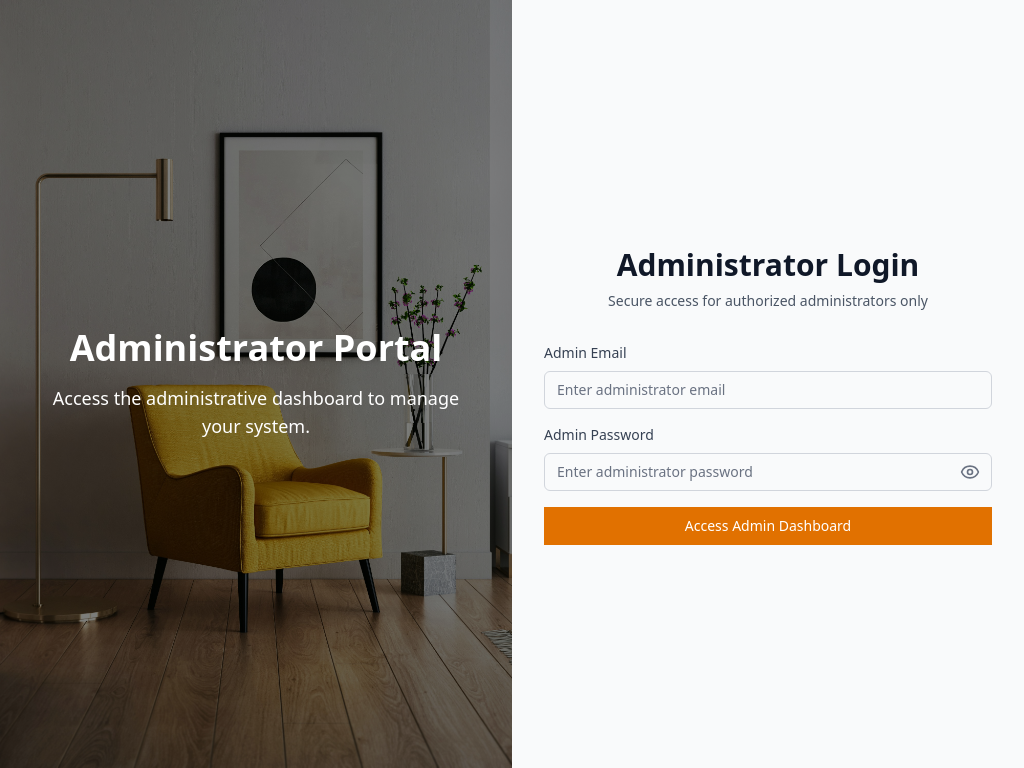
Test case: LoginPage › handles unexpected errors
In the field labelled "Admin Email": (768, 390) [544,371,992,409], type "test@example.com"
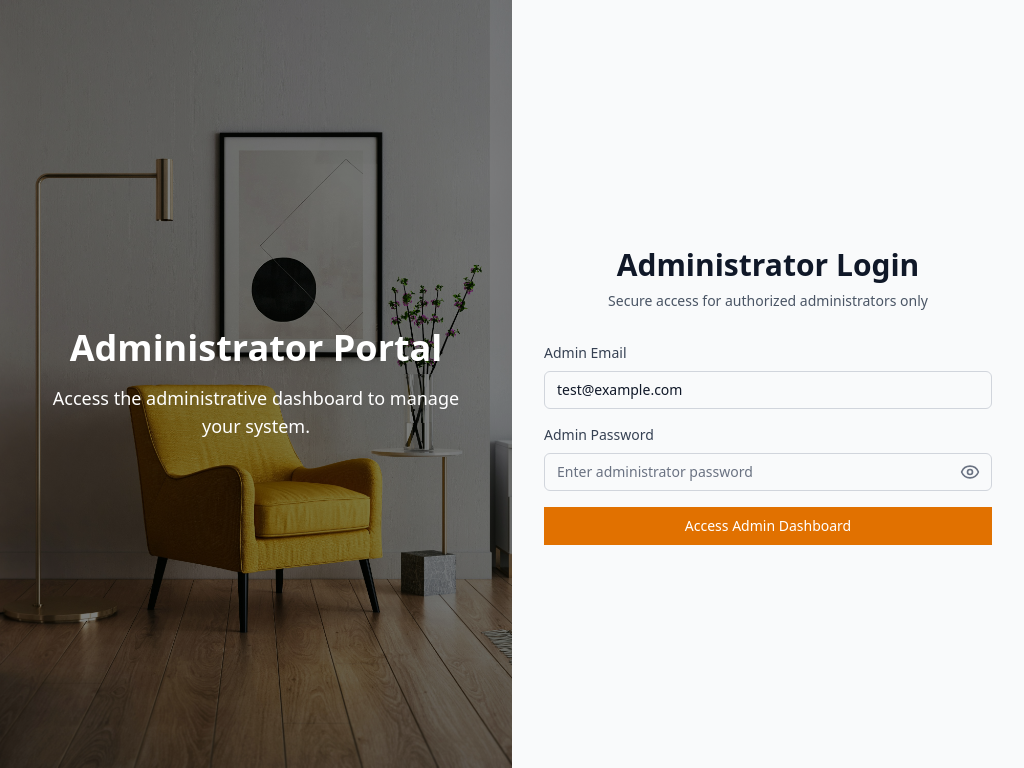
In the password field labelled "Admin Password": (768, 472) [544,453,992,491], type "password123"
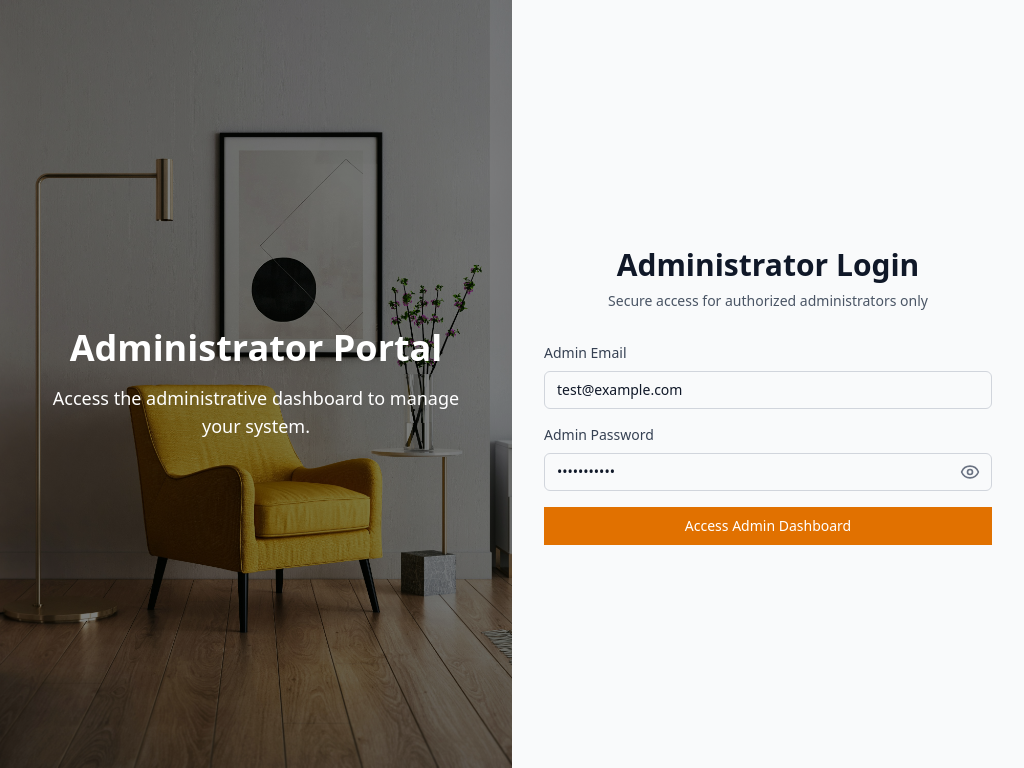
Click the button "Access Admin Dashboard": click(768, 526) [544,507,992,545]
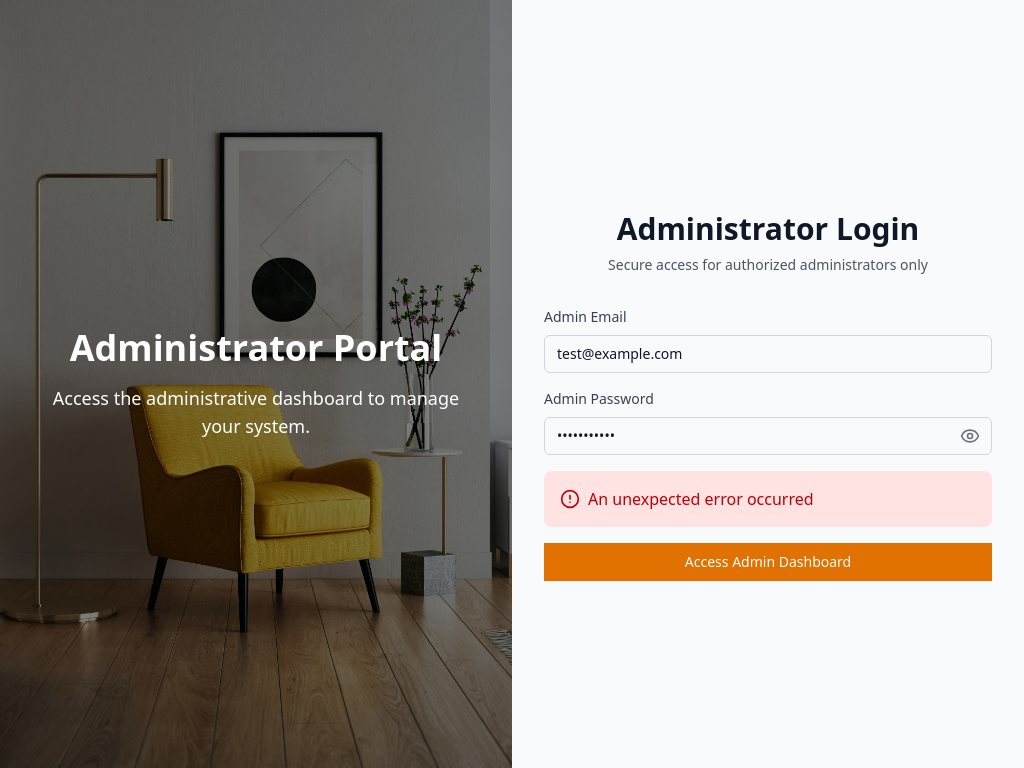
Check: the text "An unexpected error occurred" is shown, box [588,488,814,510]
